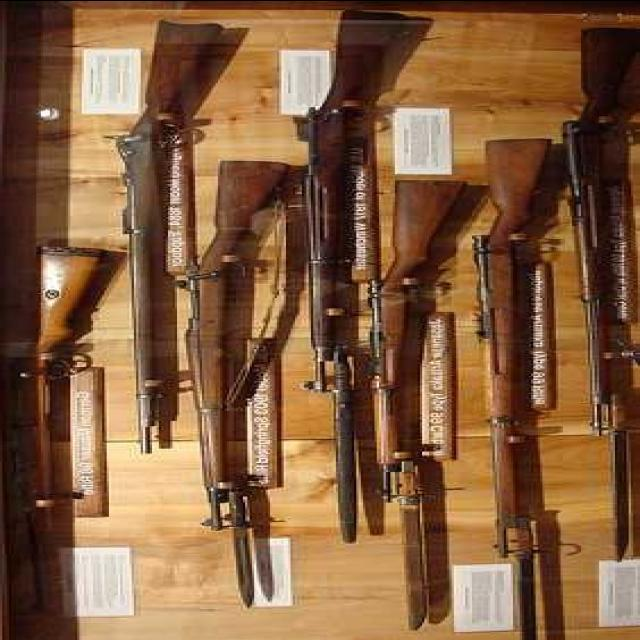heavyweapon: (276, 2, 421, 402), (172, 154, 310, 554), (110, 5, 221, 469), (439, 128, 555, 564), (8, 229, 124, 618), (360, 175, 478, 513), (555, 19, 640, 447)
